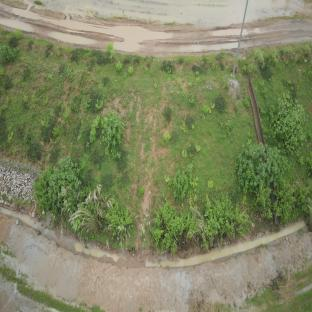rock_toe: (0, 161, 39, 215)
slope_drain: (244, 72, 284, 225)
toe_drain: (0, 203, 309, 269)
vegetation: (157, 149, 269, 242), (40, 158, 133, 243), (272, 99, 312, 217)
